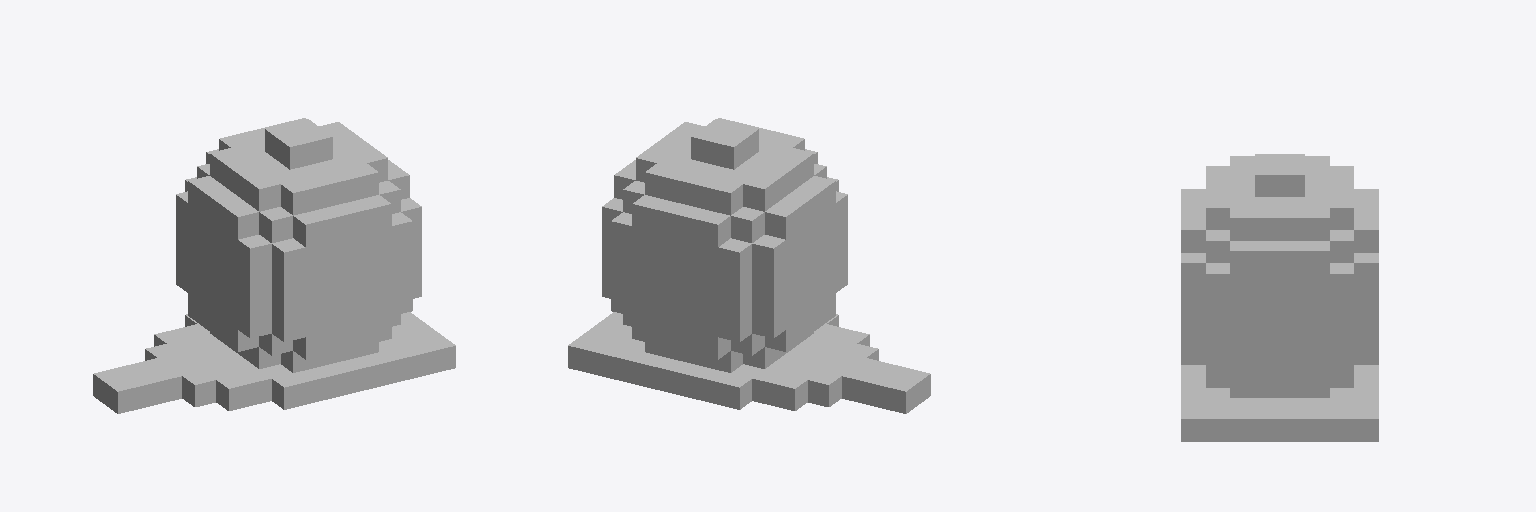
Rendered from cooking_cutting_board_with_apple.obj.
The picture shows the model from 3 angles: view 1: azimuth 30°, elevation 25°; view 2: azimuth 150°, elevation 25°; view 3: azimuth 270°, elevation 25°; orthographic projection.
Parts seen in each view (by area): view 1: node_0_0_0.016, node_0_0_0.012; view 2: node_0_0_0.016, node_0_0_0.012; view 3: node_0_0_0.016, node_0_0_0.012.
Boxes of the visible parts, x1=… form: node_0_0_0.016: x1=176, y1=118, x2=421, y2=372; node_0_0_0.012: x1=93, y1=312, x2=455, y2=413; node_0_0_0.016: x1=602, y1=118, x2=847, y2=372; node_0_0_0.012: x1=568, y1=312, x2=930, y2=413; node_0_0_0.016: x1=1181, y1=154, x2=1378, y2=397; node_0_0_0.012: x1=1181, y1=365, x2=1378, y2=441.
Size of the model in its own units: 0.875 by 0.625 by 0.5.